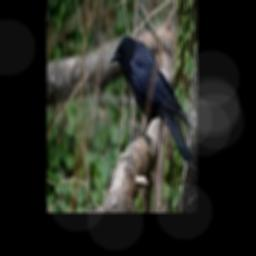Crow: (110, 35, 195, 165)
